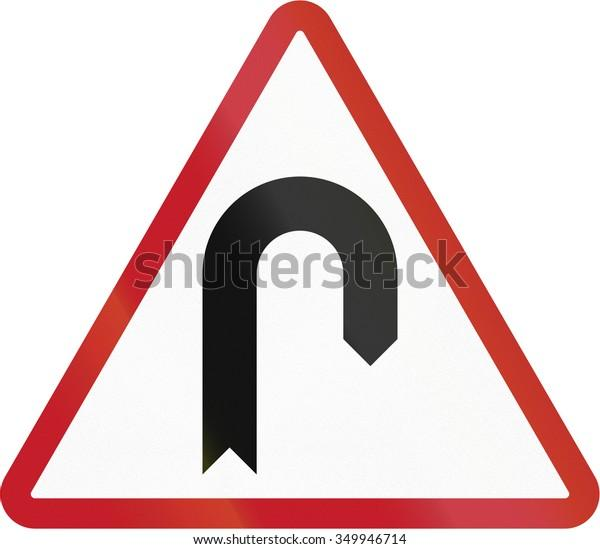Right Hair Pin Bend: (115, 80, 549, 504)
